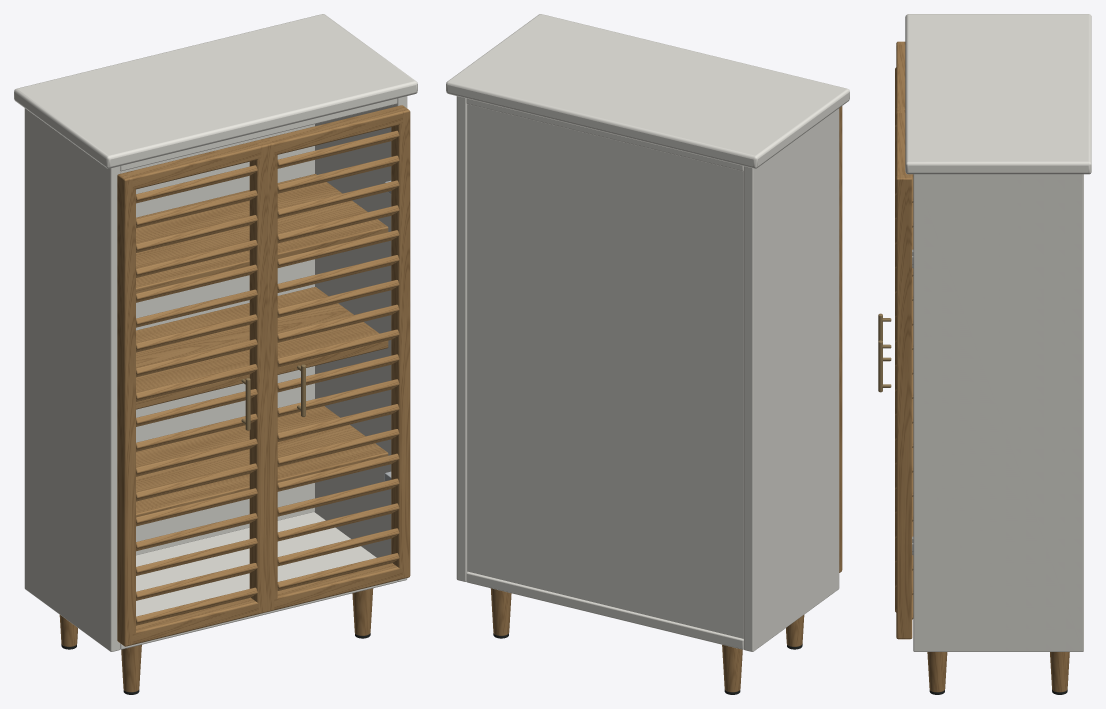
3 views of the same model, side by side, from view 1: azimuth 30°, elevation 25°; view 2: azimuth 150°, elevation 25°; view 3: azimuth 270°, elevation 25° (orthographic).
Visible parts, largest first — view 1: Case | side, Louver | white rounded top, Case | side.001, Case | inset back, Louver | oak interior shelf.001, Louver | oak interior shelf.002, Louver | oak interior shelf, Case | horizontal panel, Shutter | solid oak stile, Shutter | solid oak stile.003, Shutter | solid oak stile.001, Shutter | solid oak stile.002 (+43 smaller); view 2: Case | inset back, Case | side, Louver | white rounded top, Case | side.001, Case | horizontal panel, Shutter | solid oak stile, Case | horizontal panel.001, Leg | tapered furniture foot.001, Leg | tapered furniture foot.003; view 3: Case | side.001, Louver | white rounded top, Shutter | solid oak stile.003, Leg | tapered furniture foot.002, Leg | tapered furniture foot.003, Shutter | oak rail.003, Shutter | oak rail.001.
Boxes of the visible parts, bbox=[...] form: Case | side: bbox=[24, 108, 120, 651]; Louver | white rounded top: bbox=[14, 14, 417, 168]; Case | side.001: bbox=[315, 96, 407, 581]; Case | inset back: bbox=[120, 124, 314, 555]; Louver | oak interior shelf.001: bbox=[136, 287, 388, 409]; Louver | oak interior shelf.002: bbox=[136, 174, 388, 293]; Louver | oak interior shelf: bbox=[136, 406, 388, 517]; Case | horizontal panel: bbox=[120, 512, 397, 649]; Shutter | solid oak stile: bbox=[117, 172, 135, 646]; Shutter | solid oak stile.003: bbox=[391, 105, 410, 578]; Shutter | solid oak stile.001: bbox=[249, 140, 267, 613]; Shutter | solid oak stile.002: bbox=[260, 138, 277, 611]; Case | inset back: bbox=[467, 104, 743, 638]; Case | side: bbox=[743, 108, 839, 651]; Louver | white rounded top: bbox=[446, 14, 849, 168]; Case | side.001: bbox=[456, 96, 467, 581]; Case | horizontal panel: bbox=[466, 571, 743, 649]; Shutter | solid oak stile: bbox=[839, 106, 842, 572]; Case | horizontal panel.001: bbox=[466, 98, 743, 171]; Leg | tapered furniture foot.001: bbox=[722, 645, 742, 692]; Leg | tapered furniture foot.003: bbox=[490, 588, 511, 635]; Case | side.001: bbox=[913, 174, 1083, 651]; Louver | white rounded top: bbox=[905, 14, 1091, 174]; Shutter | solid oak stile.003: bbox=[896, 175, 912, 639]; Leg | tapered furniture foot.002: bbox=[927, 652, 947, 692]; Leg | tapered furniture foot.003: bbox=[1050, 652, 1069, 692]; Shutter | oak rail.003: bbox=[896, 113, 912, 175]; Shutter | oak rail.001: bbox=[896, 44, 905, 107].
Bounding box in the file's own units: 0.866 × 1.48 × 0.5215.
Materials: 5 (1 with a texture image).
